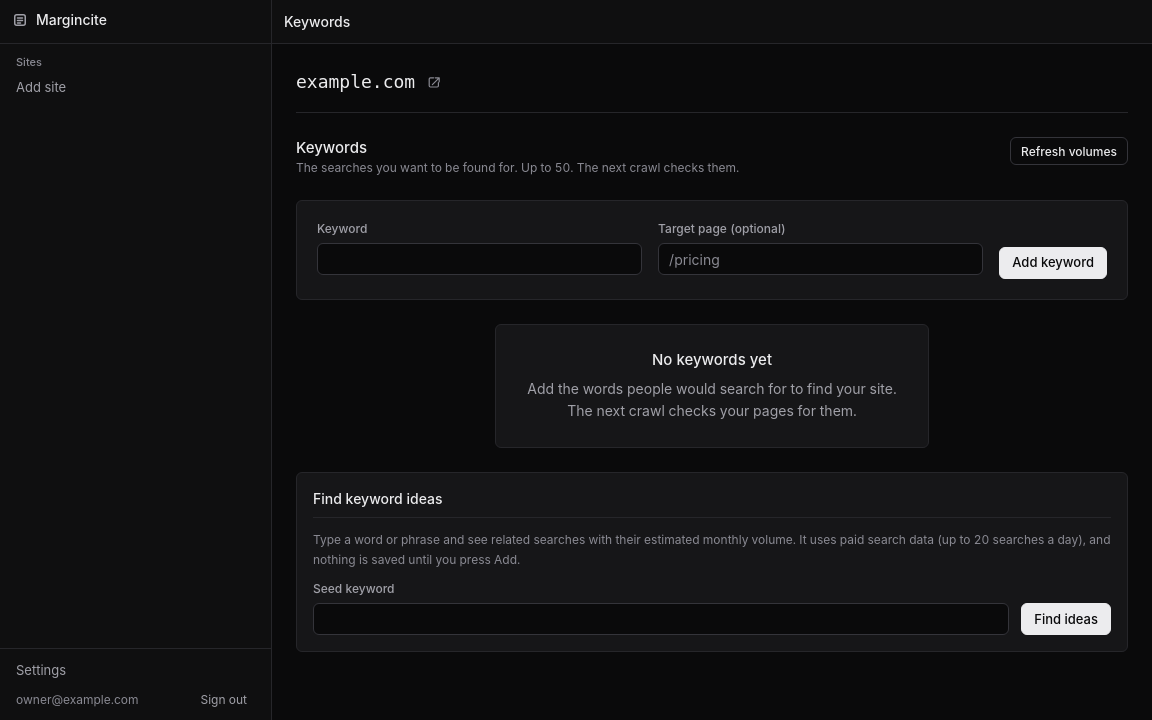
it: a target page outside the site is refused with the server's message
Type "atlas" into the field labelled "Keyword" at [480, 259], box [317, 243, 642, 275]
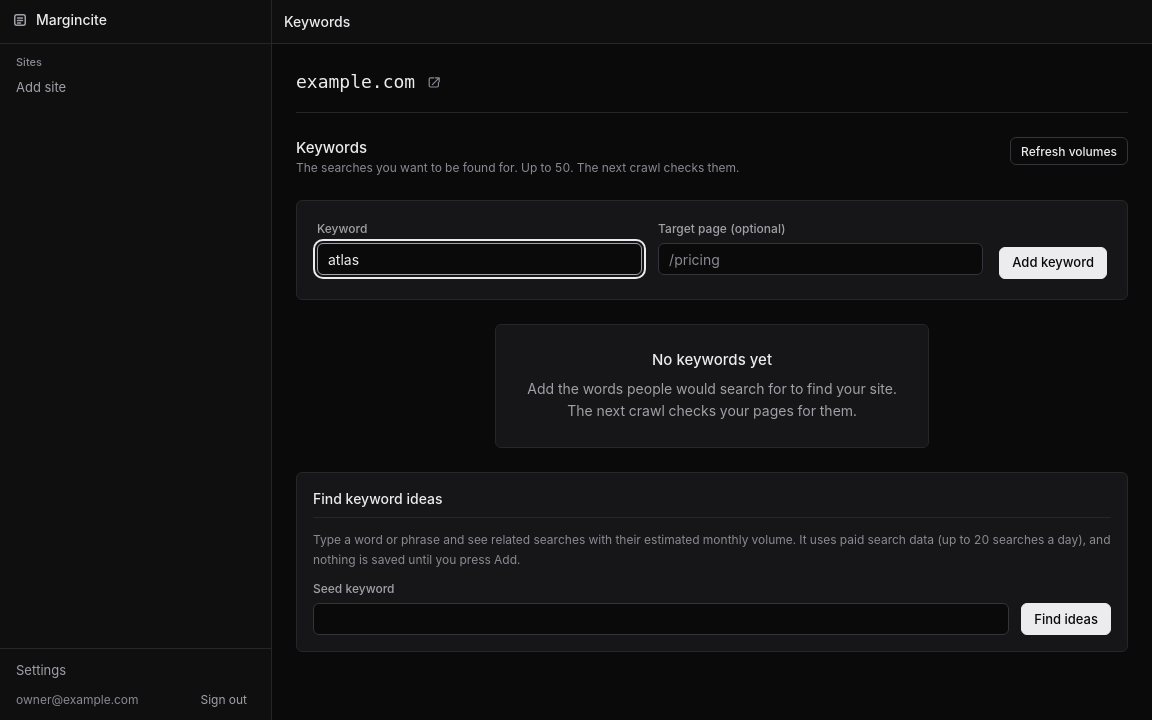
Type "https://other.test/" into the field labelled "Target page (optional)" at [821, 259], box [658, 243, 983, 275]
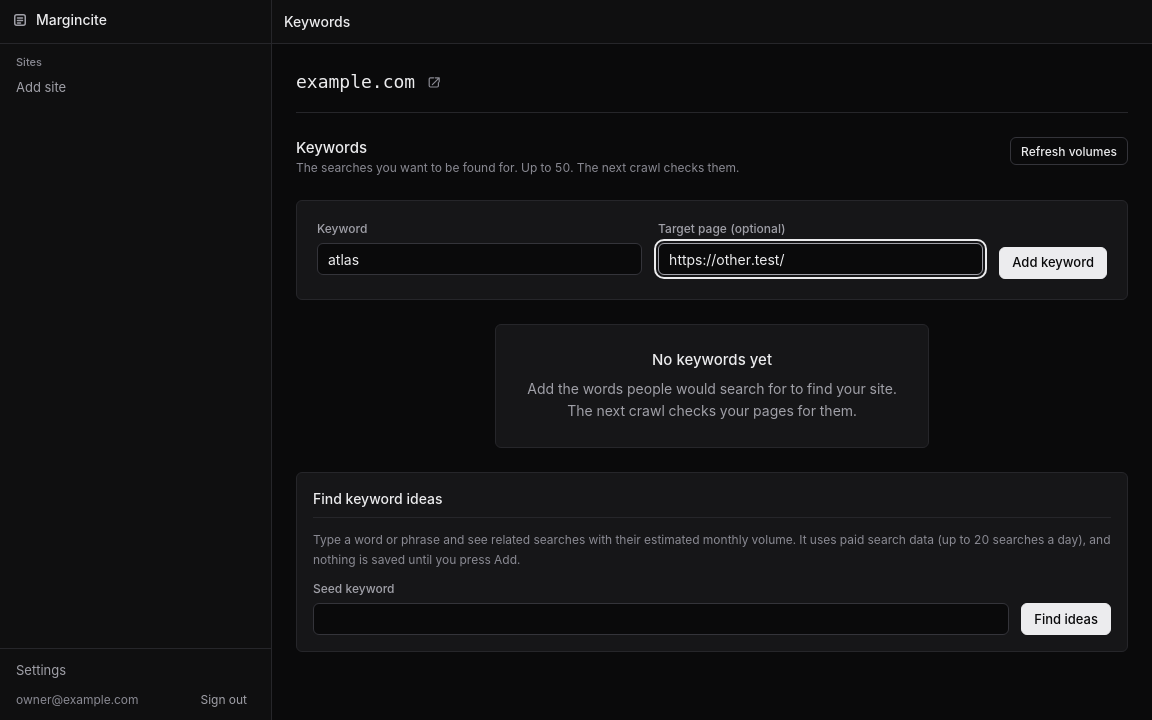
Click the button "Add keyword" at [1053, 263], box [999, 247, 1107, 279]
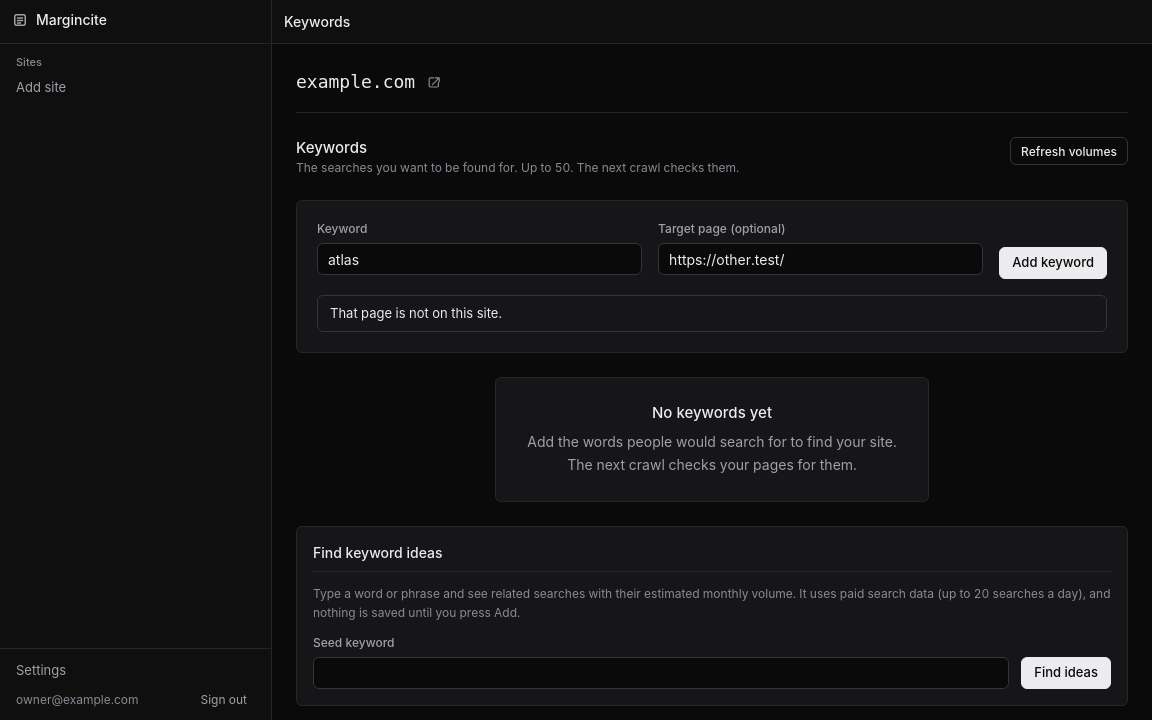
Expected: the text "That page is not on this site." is shown, [317, 295, 1107, 332]
